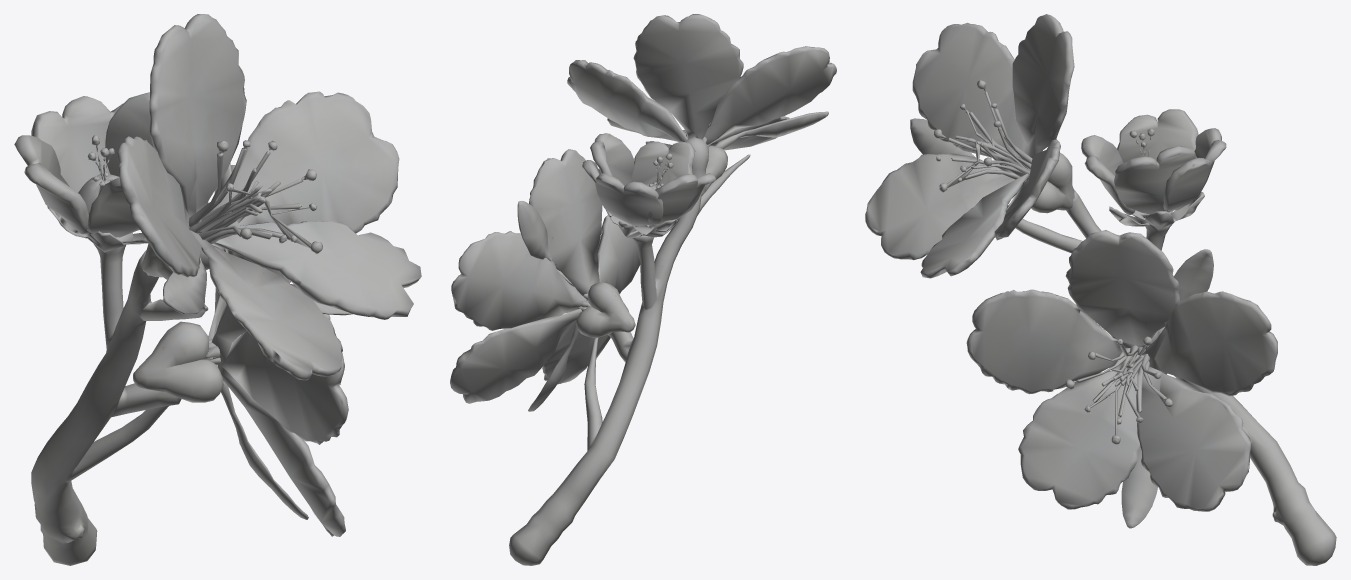
File: r33-blossom.glb
3 views of the same model, side by side, from view 1: azimuth 30°, elevation 25°; view 2: azimuth 150°, elevation 25°; view 3: azimuth 270°, elevation 25° (orthographic). The views are drawn at different scales.
Visible parts, largest first — view 1: tripo_node_95e14074-51cd-482a-9c71-8a8b9cab6c88; view 2: tripo_node_95e14074-51cd-482a-9c71-8a8b9cab6c88; view 3: tripo_node_95e14074-51cd-482a-9c71-8a8b9cab6c88.
Part boxes in pixels (x1=…): tripo_node_95e14074-51cd-482a-9c71-8a8b9cab6c88: x1=14, y1=14, x2=421, y2=565; tripo_node_95e14074-51cd-482a-9c71-8a8b9cab6c88: x1=450, y1=14, x2=836, y2=565; tripo_node_95e14074-51cd-482a-9c71-8a8b9cab6c88: x1=865, y1=14, x2=1336, y2=565.
Bounding box in the file's own units: 0.541 × 0.998 × 0.8184.
1 material, 1 textured.
